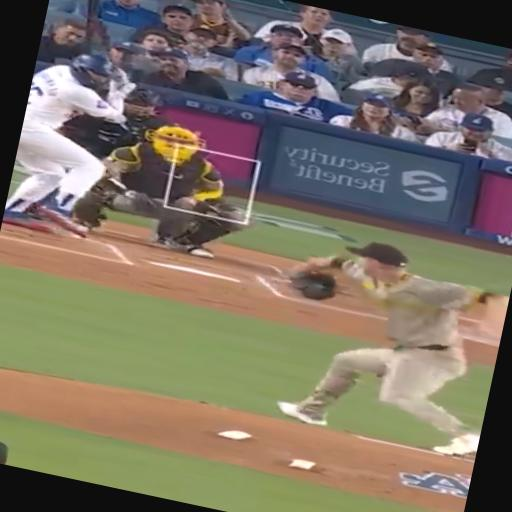bat: (86, 17, 124, 75)
